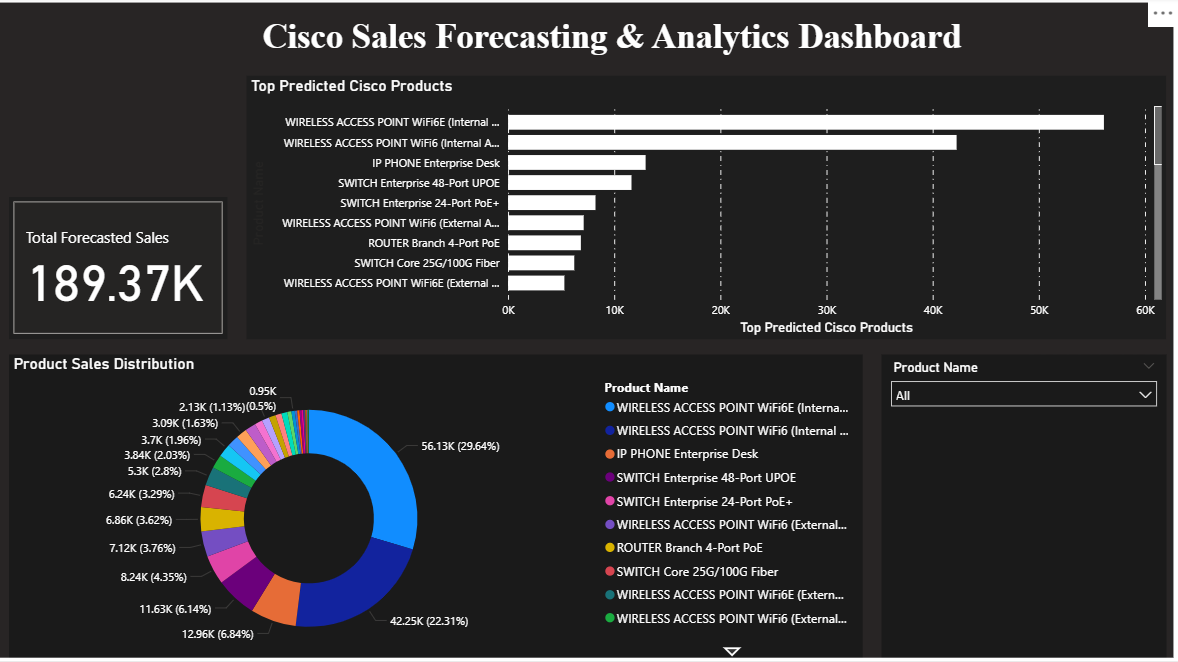

The dashboard page shown, as its layout file describes it:
{"tool":"powerbi","page":{"name":"Page 1","canvas":[1280,720],"ordinal":0},"visuals":[{"type":"clusteredBarChart","title":"Top Predicted Cisco Products","fields":{"Y":["Sum(submission.Predicted FY26 Q2)"],"Category":["submission.Product Name"]},"box":[272.8,85.1,994,285],"z":0},{"type":"cardVisual","fields":{"Data":["Sum(submission.Predicted FY26 Q2)"]},"box":[16.2,216.1,236.3,154],"z":1000},{"type":"slicer","fields":{"Values":["submission.Product Name"]},"box":[958.9,386.2,307.9,333.6],"z":2000},{"type":"donutChart","title":"Product Sales Distribution","fields":{"Category":["submission.Product Name"],"Y":["Sum(submission.Predicted FY26 Q2)"]},"box":[16.2,386.2,922.4,333.6],"z":3000},{"type":"textbox","box":[285,16.2,775.2,54],"z":3001},{"type":"shape","box":[0,0,1280.3,719.8],"z":3002}]}

Visuals, with their boxes in screenshot pixels (x1, y1, x2, y2), scaled from the page's 1280x720 canvas onto the 1178x662 screenshot:
"Top Predicted Cisco Products" clusteredBarChart: 251 78 1166 340
cardVisual - Sum(submission.Predicted FY26 Q2): 15 199 232 340
slicer - submission.Product Name: 882 355 1166 661
"Product Sales Distribution" donutChart: 15 355 864 661
textbox: 262 15 976 65
shape: 0 0 1177 661
